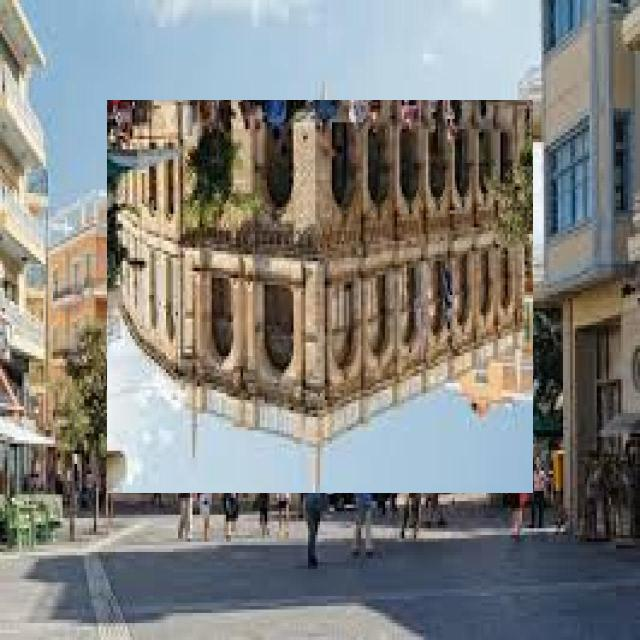Loggia: (108, 101, 534, 494)
